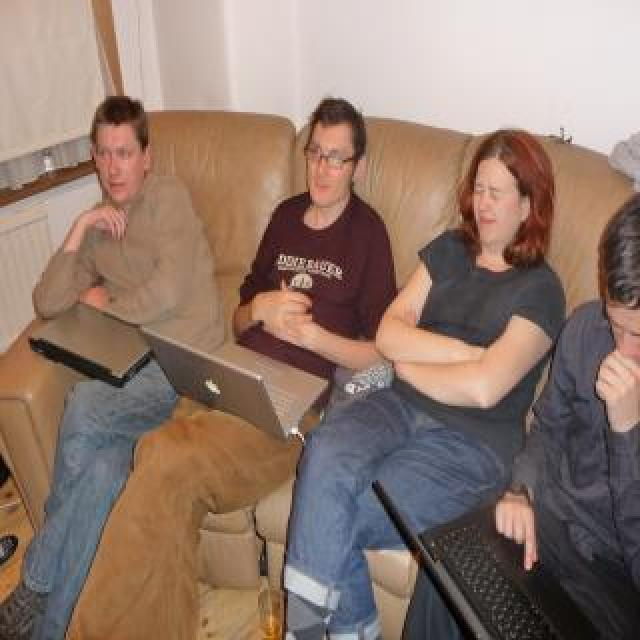laptop_computer: (135, 280, 338, 452)
